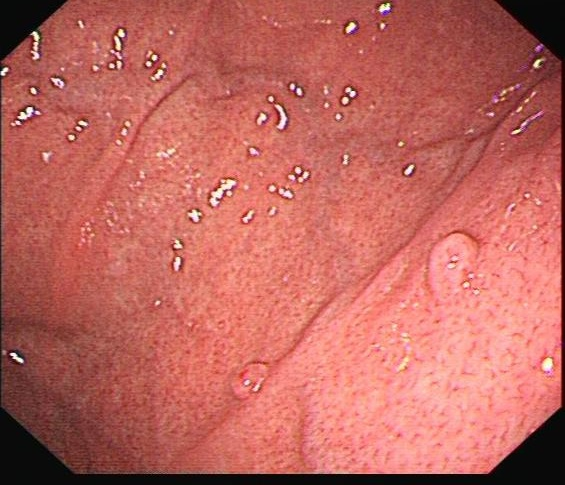Polyp: (413, 223, 486, 303)
